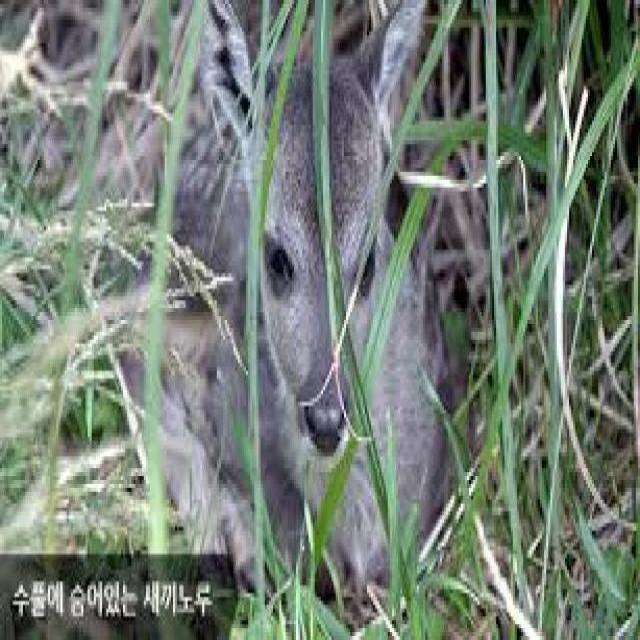deer: (192, 0, 438, 483)
